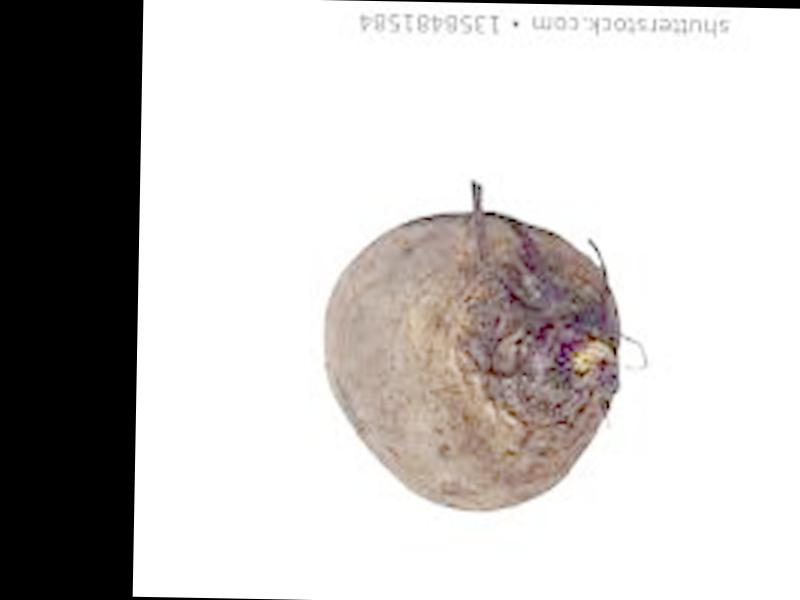Beet: (317, 211, 619, 513)
